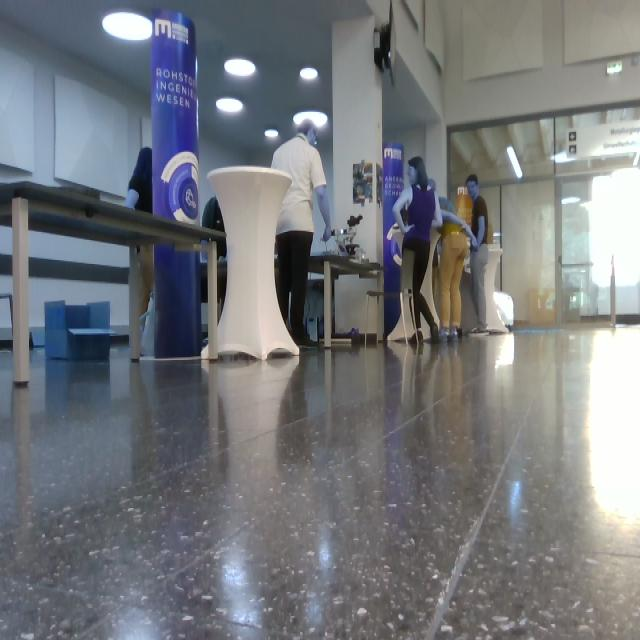door: (557, 171, 639, 327), (501, 178, 557, 325)
light bulb: (102, 11, 153, 43), (224, 57, 256, 77), (293, 110, 328, 128), (507, 146, 523, 180), (216, 97, 243, 113), (300, 66, 318, 81), (606, 61, 623, 74), (307, 128, 318, 146), (265, 128, 279, 138)
person: (271, 118, 332, 348), (391, 156, 444, 345), (435, 196, 477, 342), (466, 175, 489, 335)
pillar: (150, 8, 202, 360), (207, 165, 300, 361)
tiled floor: (1, 324, 639, 638)
